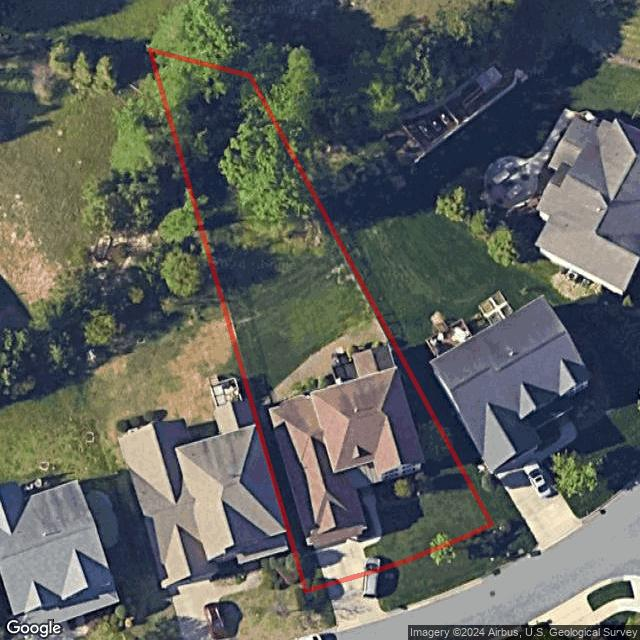Driveway: (314, 536, 374, 586)
Extra-Driveway: (325, 571, 389, 632)
Extra-Lawn: (374, 525, 512, 613), (305, 587, 337, 632)
House: (268, 343, 425, 552)
Lawn: (149, 49, 492, 589)
Other: (149, 49, 323, 241), (264, 316, 392, 404), (371, 471, 432, 505)
Sidewalk: (337, 461, 383, 548)
